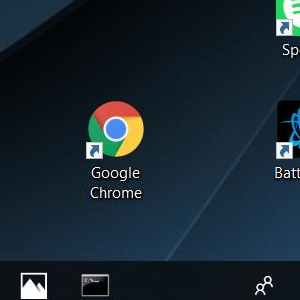chrome: (85, 101, 144, 159)
